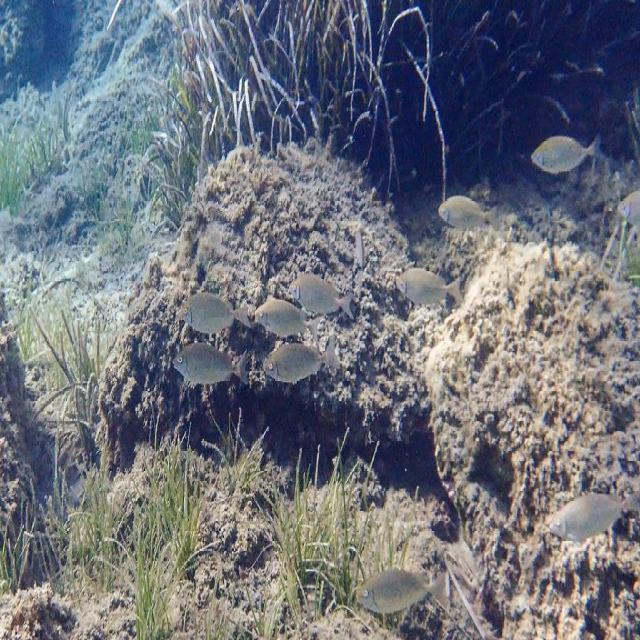Sokar Baligi: (353, 556, 452, 627), (541, 480, 639, 550), (168, 336, 258, 407), (431, 176, 505, 246), (527, 124, 608, 184)
